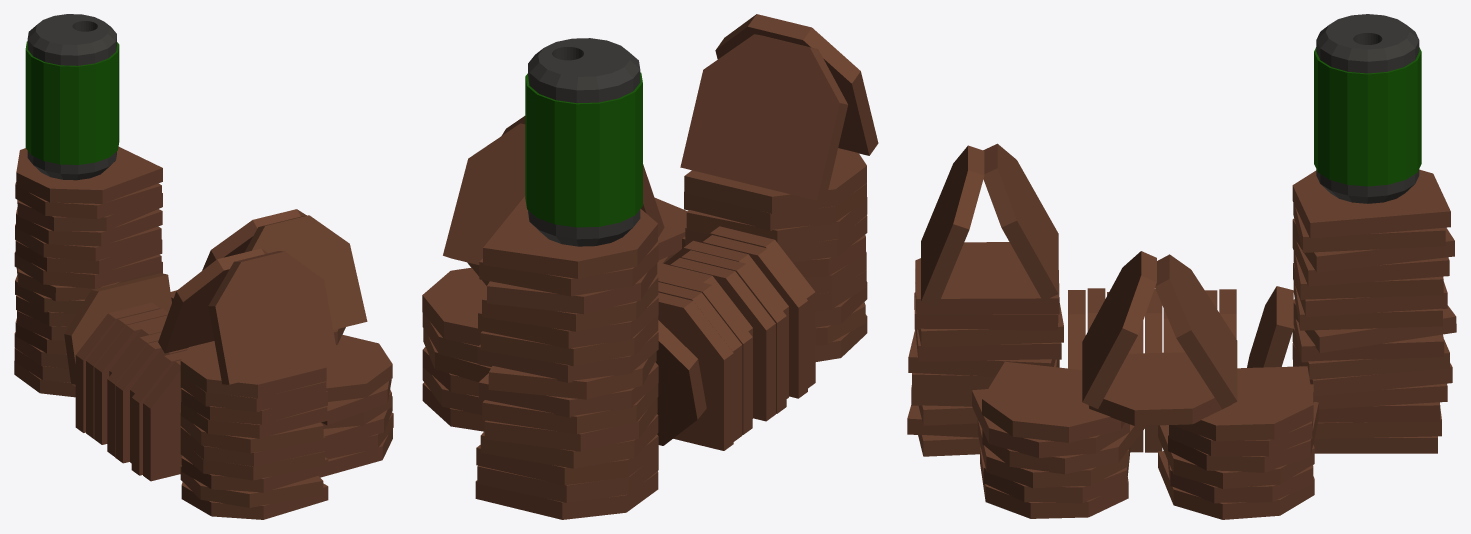
The model's file is wieza_energol.obj.
3 views of the same model, side by side, from view 1: azimuth 30°, elevation 25°; view 2: azimuth 150°, elevation 25°; view 3: azimuth 270°, elevation 25° (orthographic). The views are drawn at different scales.
Parts seen in each view (by area): view 1: Cube.011; view 2: Cube.011; view 3: Cube.011.
Boxes of the visible parts, x1,y1,x2,y2 form: Cube.011: [14, 14, 393, 519]; Cube.011: [422, 14, 878, 519]; Cube.011: [907, 14, 1456, 519].
Bounding box in the file's own units: 5.93 × 8.38 × 10.67.
